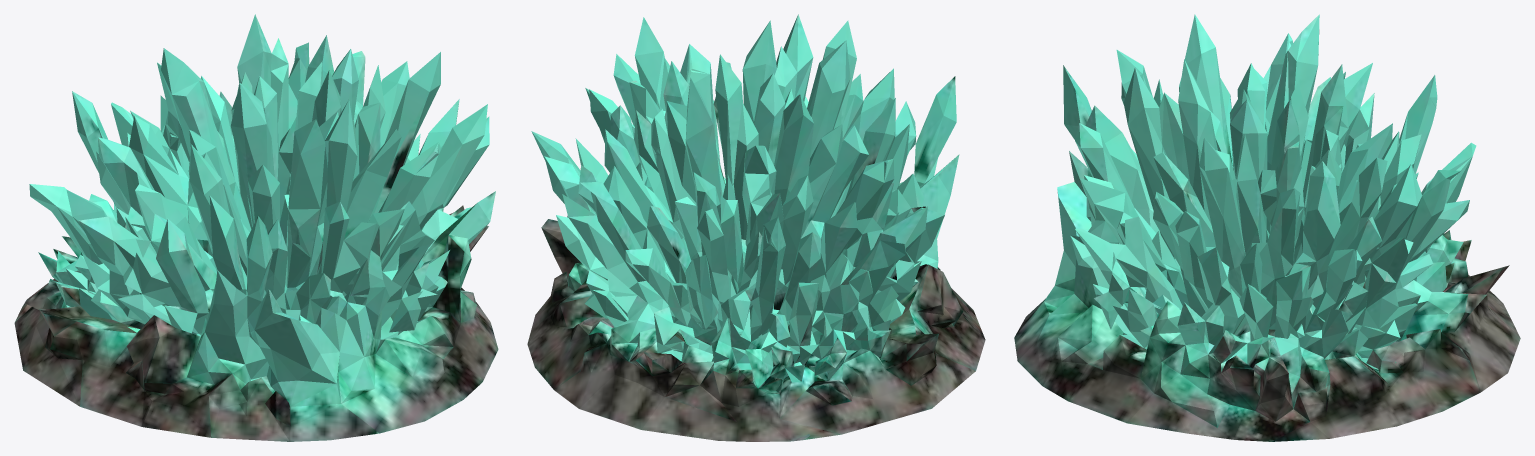
The model's file is crystal.glb.
The picture shows the model from 3 angles, left to right: view 1: azimuth 30°, elevation 25°; view 2: azimuth 150°, elevation 25°; view 3: azimuth 270°, elevation 25°; orthographic projection. The views are drawn at different scales.
Visible parts, largest first — view 1: crystal; view 2: crystal; view 3: crystal.
Boxes of the visible parts, x1,y1,x2,y2 form: crystal: (14,14,498,441); crystal: (527,14,985,441); crystal: (1014,14,1520,441).
Size of the model in its own units: 1.97 by 1.32 by 2.02.
Materials: 1 (1 with a texture image).
